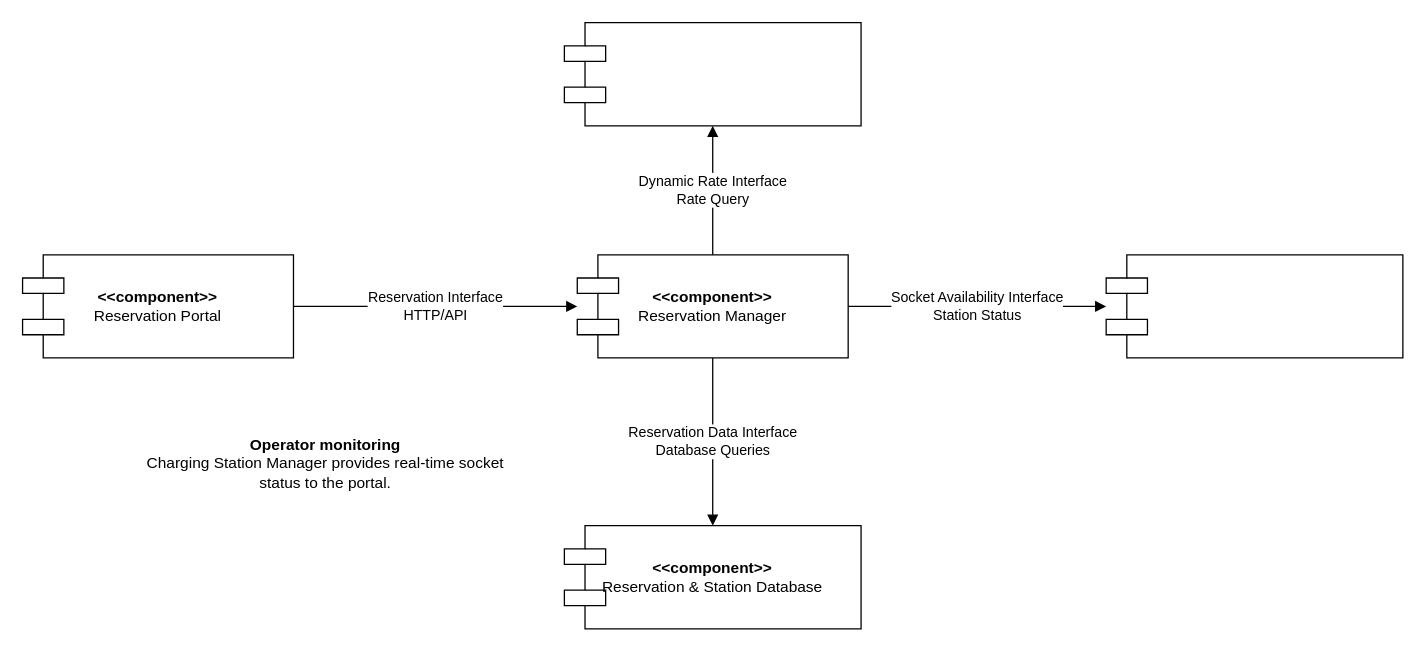
Image size: 1425x651. Some labels were removed from this diagram. The shapes that lost their labels are listed below. From the top down, each one's centre as x and y in pixels, then its label:
At (712,73): "<<component>> Dynamic Pricing Service".
At (1254,305): "<<component>> Charging Station Manager".
